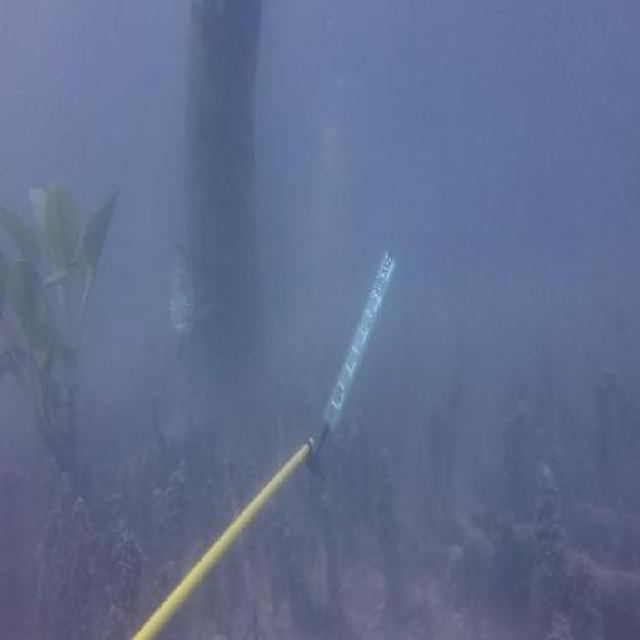acanthopagrus_palmaris: (162, 228, 203, 362)
